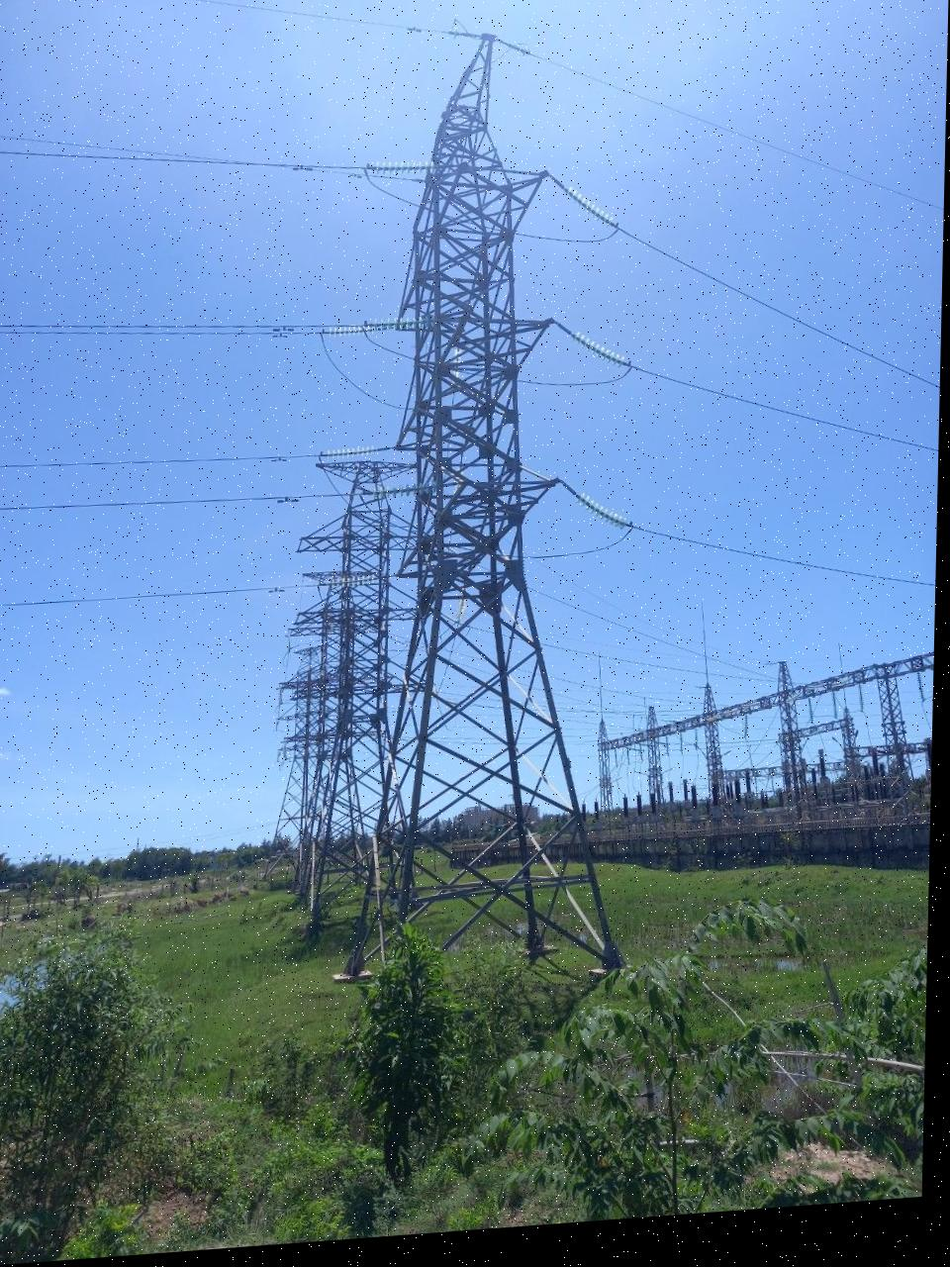tower: (334, 14, 648, 1010)
